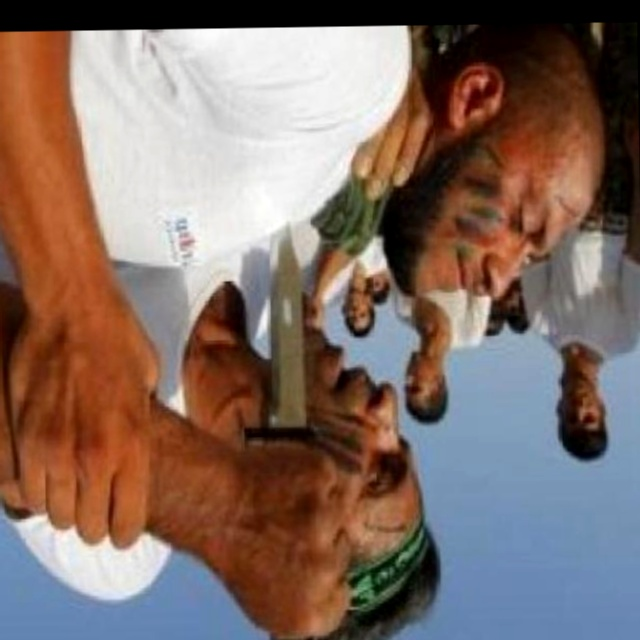Sharp-Object: (241, 224, 323, 640)
